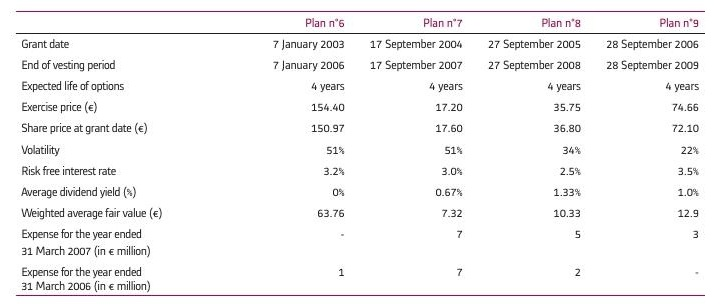table: (0, 0, 723, 306)
